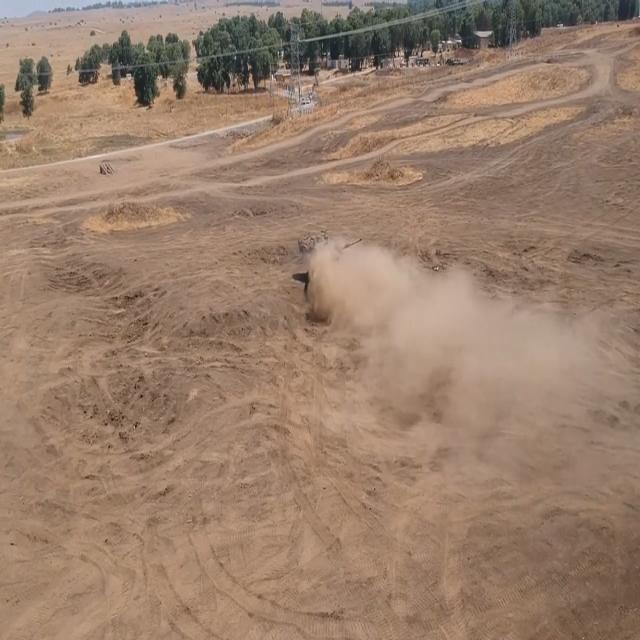tank: (300, 230, 377, 320)
